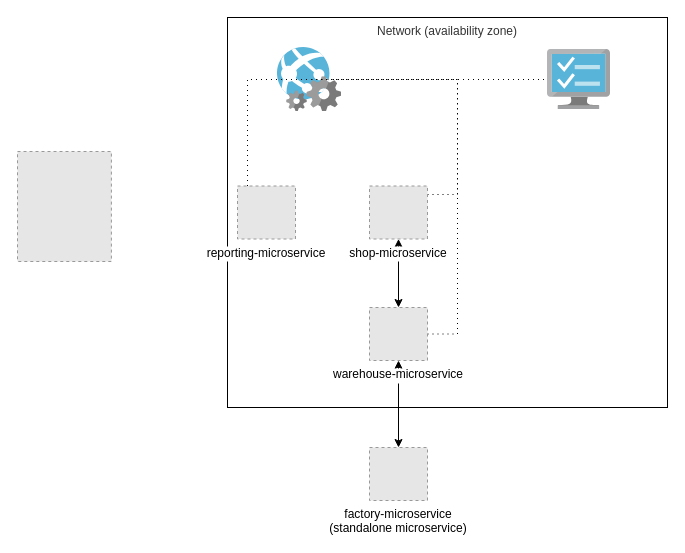
Some shapes in this 685 by 553 pixel diagram are drawn without their labels. Grey dashed boxes stand in for pictures. The shapes that lost their labels are listed below. From the top down, each one's centre as x and y in pixels, then its label:
point (309, 79): eureka-server
point (578, 79): admin-dashboard
